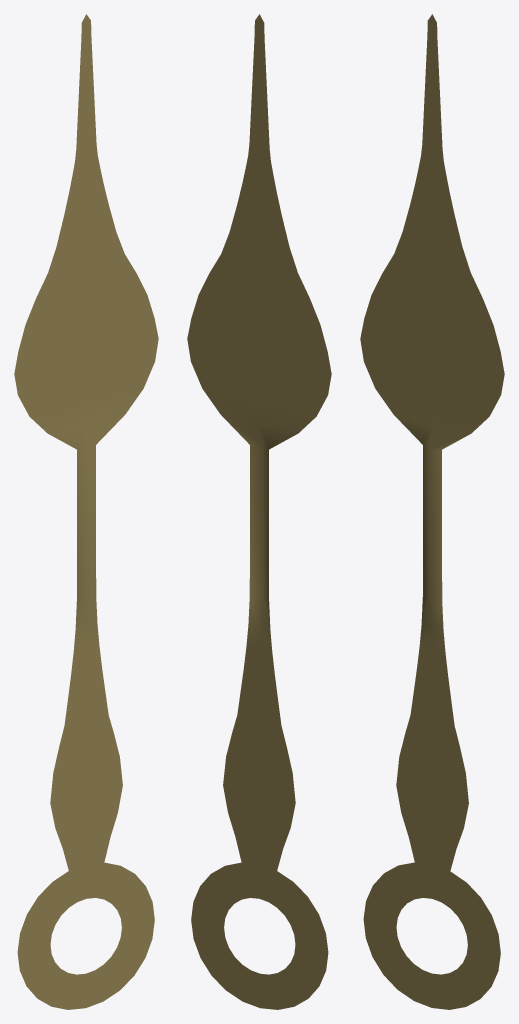
File: mdl_hub_goldhourhand.gltf
The picture shows the model from 3 angles, left to right: view 1: azimuth 30°, elevation 25°; view 2: azimuth 150°, elevation 25°; view 3: azimuth 330°, elevation 25°; orthographic projection.
Parts seen in each view (by area): view 1: hour; view 2: hour; view 3: hour.
Boxes of the visible parts, x1=… form: hour: x1=14, y1=14, x2=158, y2=1009; hour: x1=187, y1=14, x2=331, y2=1009; hour: x1=360, y1=14, x2=504, y2=1009.
Bounding box in the file's own units: 0.017 × 0.1117 × 0.000731.
